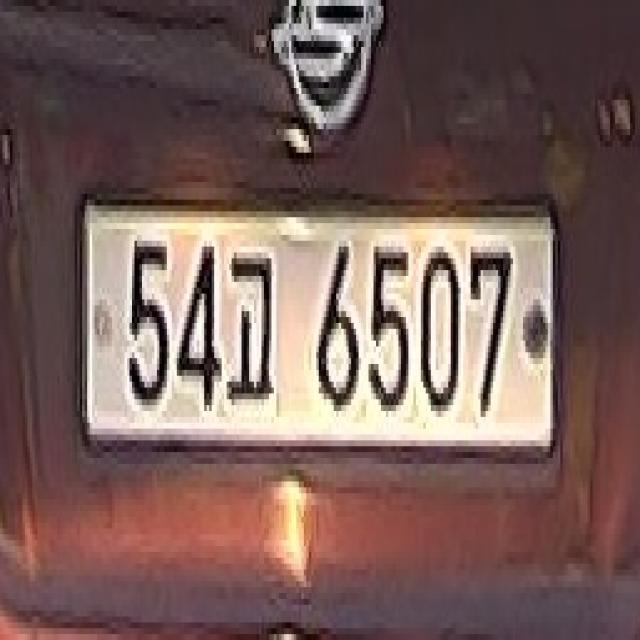0: (413, 241, 461, 411)
5: (122, 206, 174, 411), (167, 241, 224, 417), (366, 229, 408, 411)
6: (314, 223, 366, 440)
7: (470, 240, 516, 422)
go: (222, 252, 284, 411)
license_plate: (75, 194, 563, 499)
